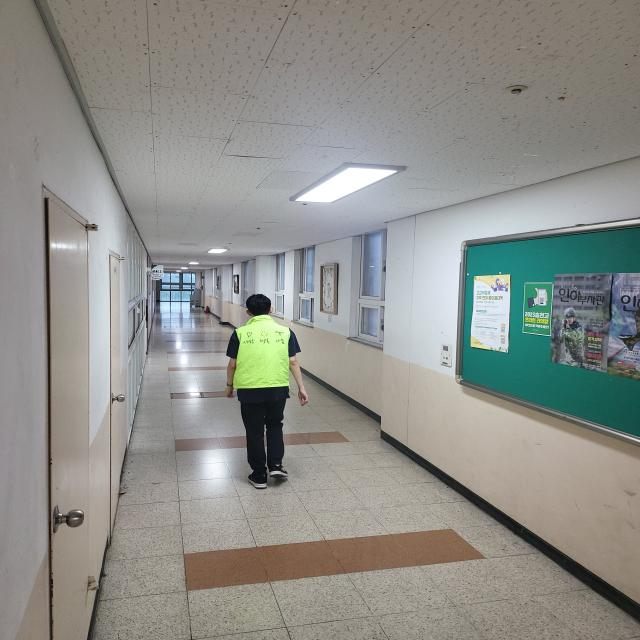weston_spy: (226, 305, 311, 400)
